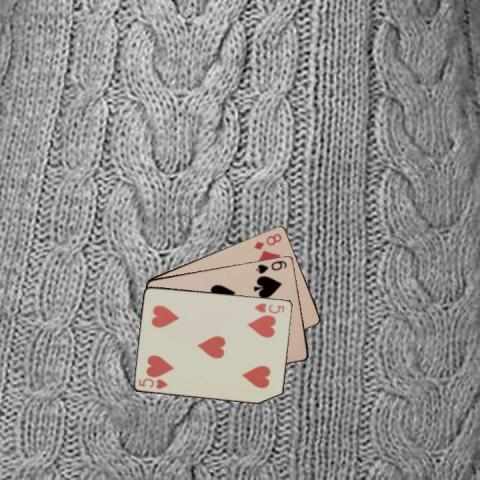5h: (251, 300, 286, 315), (136, 375, 170, 390)
6s: (253, 257, 288, 275)
8d: (250, 230, 282, 251)
